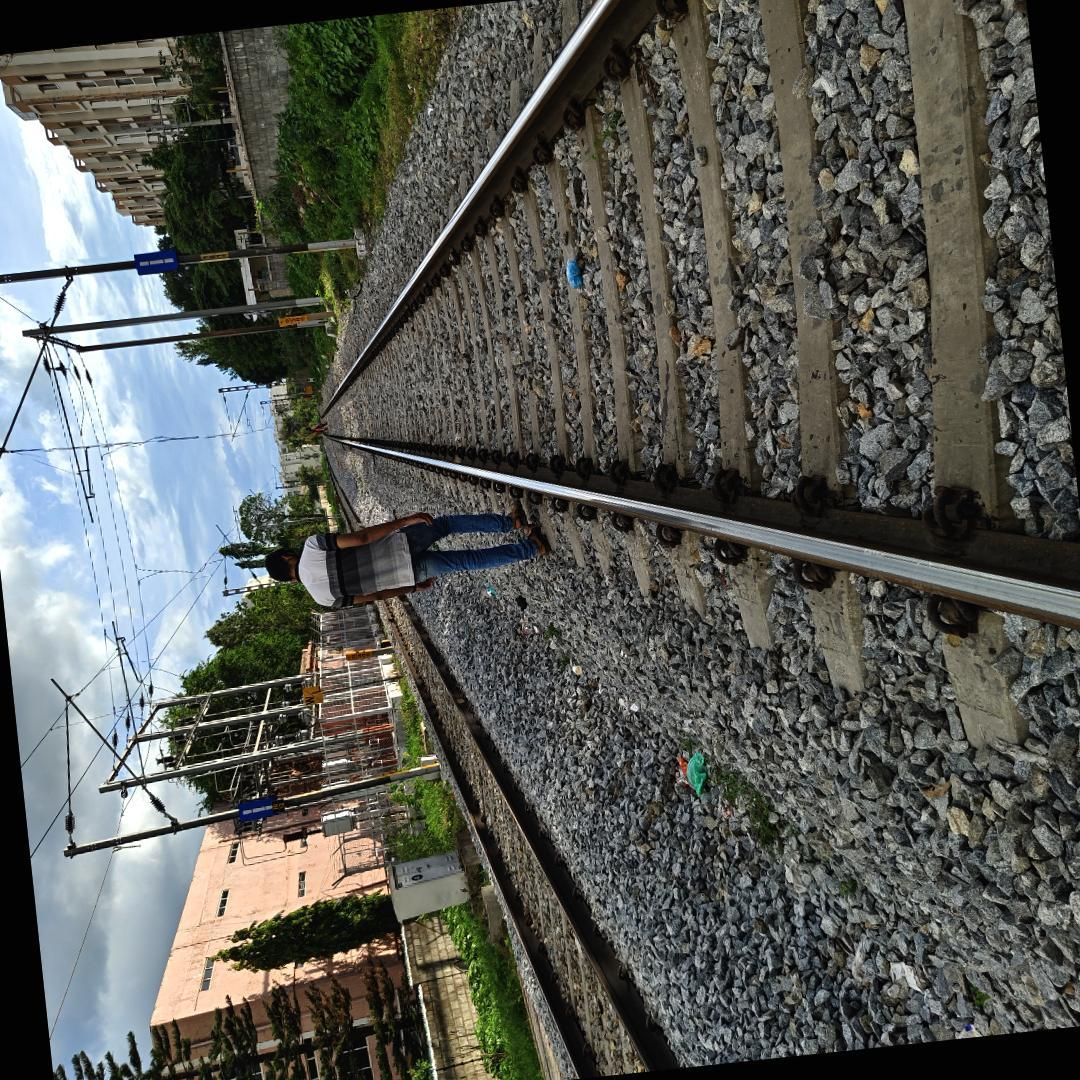standing: (247, 485, 557, 610)
